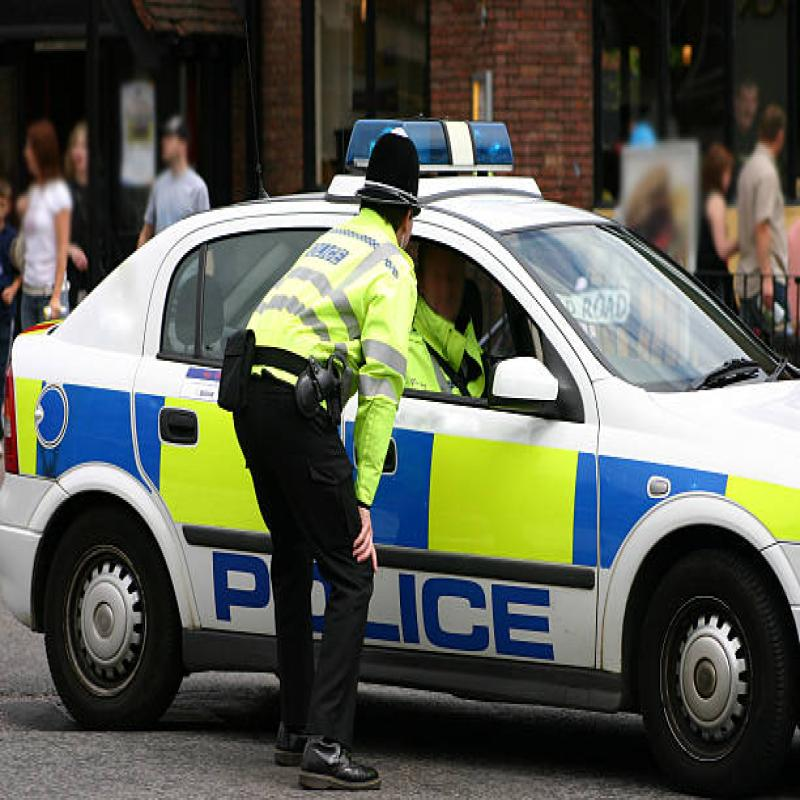AmbulanceSiren: (344, 100, 522, 188)
